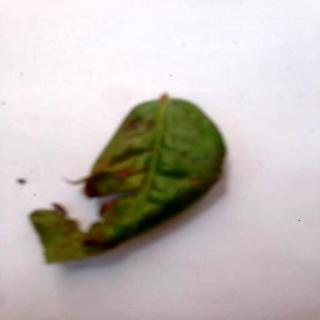Algal Leaf: (31, 96, 226, 267)
